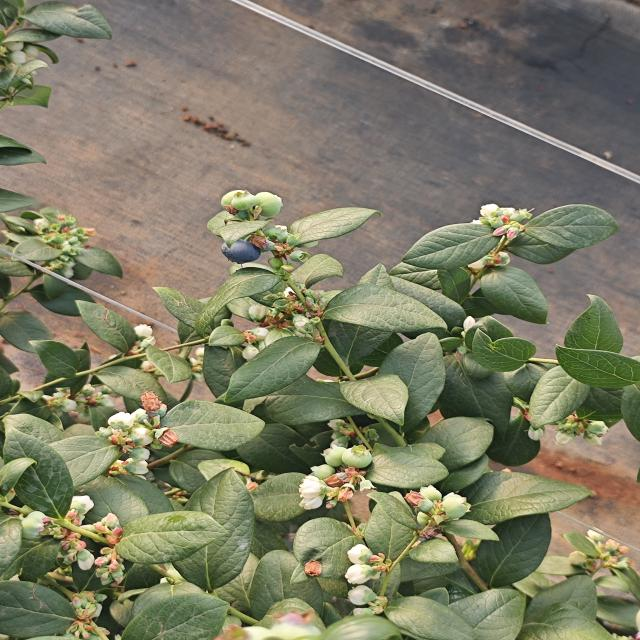ripe: (218, 235, 264, 268)
